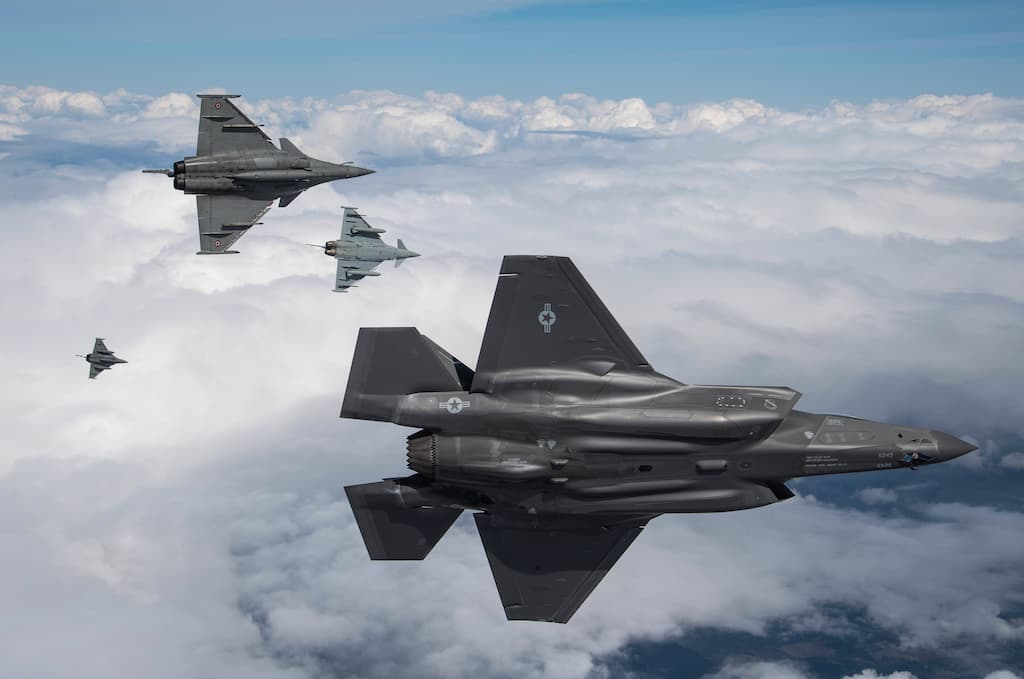F35: (338, 253, 980, 624)
Rafale: (145, 93, 370, 257), (75, 336, 127, 379)
